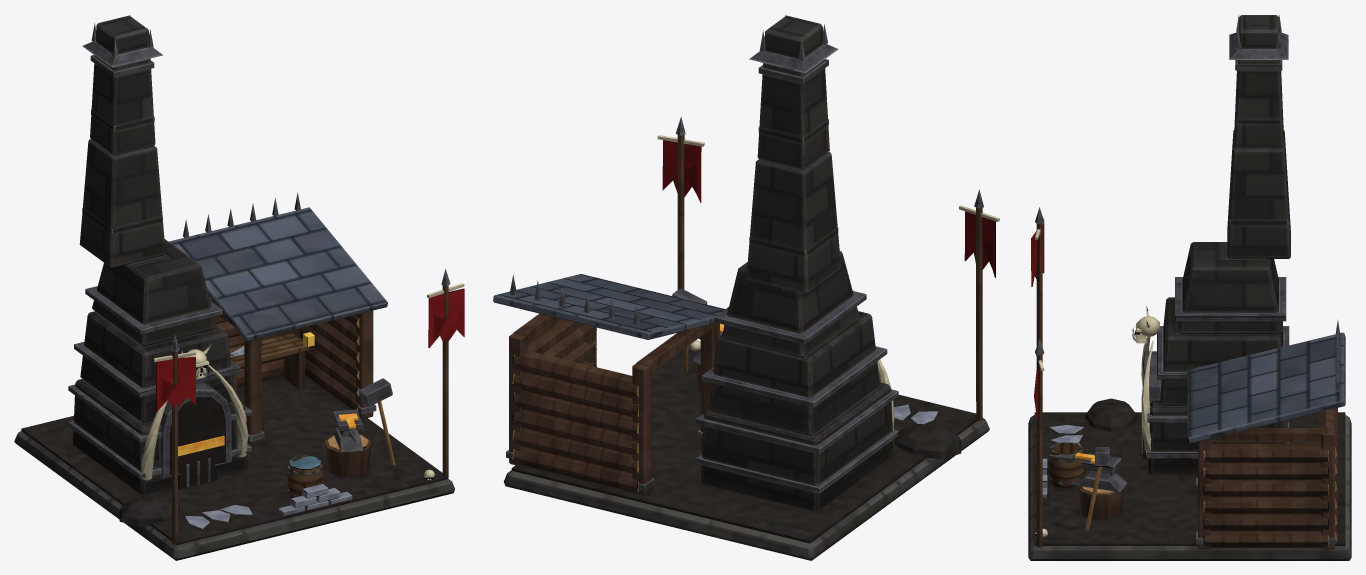
The model's file is orc_forge.glb.
The picture shows the model from 3 angles, left to right: view 1: azimuth 30°, elevation 25°; view 2: azimuth 150°, elevation 25°; view 3: azimuth 270°, elevation 25°; orthographic projection. The views are drawn at different scales.
Visible parts, largest first — view 1: Static_Mesh, Anim_Banners; view 2: Static_Mesh, Anim_Banners; view 3: Static_Mesh, Anim_Banners.
Boxes of the visible parts, x1,y1,x2,y2 form: Static_Mesh: [14, 15, 464, 560]; Anim_Banners: [156, 288, 464, 411]; Static_Mesh: [493, 15, 999, 560]; Anim_Banners: [662, 140, 995, 277]; Static_Mesh: [1028, 15, 1351, 560]; Anim_Banners: [1031, 222, 1044, 418].
Bounding box in the file's own units: 7.2 × 9.7 × 6.56.
Materials: 2 (2 with a texture image).
